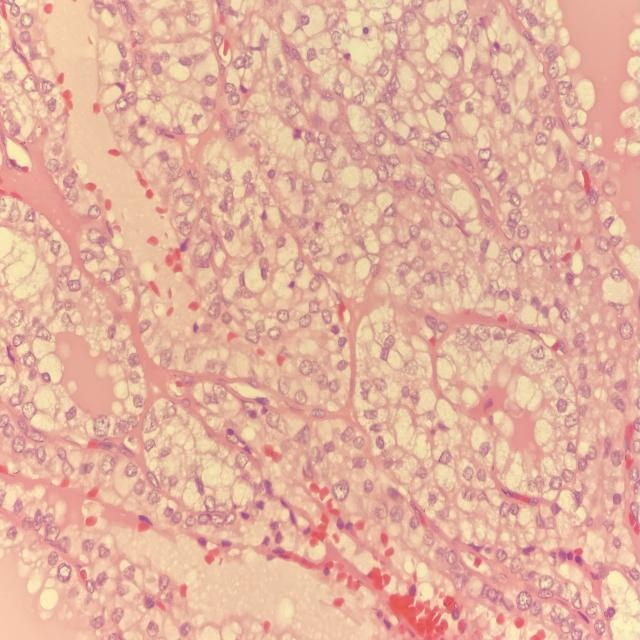TC: (145, 336, 186, 376), (326, 464, 359, 511), (366, 486, 397, 531), (523, 329, 552, 375), (86, 404, 115, 444), (392, 351, 426, 383), (364, 120, 396, 154), (504, 233, 531, 273), (612, 308, 638, 349), (299, 268, 329, 303), (546, 367, 574, 404), (431, 203, 458, 241), (290, 351, 322, 383), (404, 249, 431, 285), (190, 230, 216, 267), (566, 326, 597, 357), (262, 317, 290, 351), (365, 158, 391, 194), (369, 428, 398, 460), (90, 264, 116, 296), (604, 477, 630, 507), (545, 463, 565, 501), (258, 406, 285, 434), (377, 195, 403, 223), (435, 442, 457, 474), (129, 472, 151, 503), (122, 388, 148, 414), (401, 165, 419, 195)
